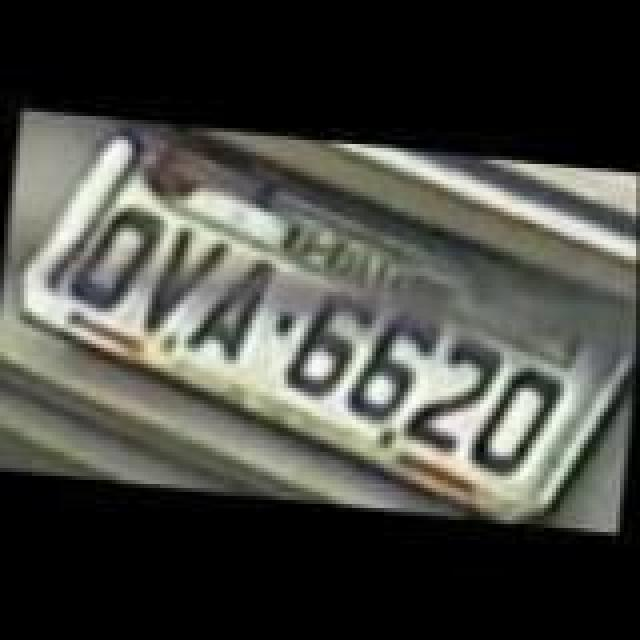2: (400, 332, 496, 456)
6: (344, 304, 444, 428), (280, 286, 372, 402)
A: (184, 256, 276, 364)
O: (468, 358, 564, 482), (66, 204, 158, 316)
V: (136, 216, 236, 340)
